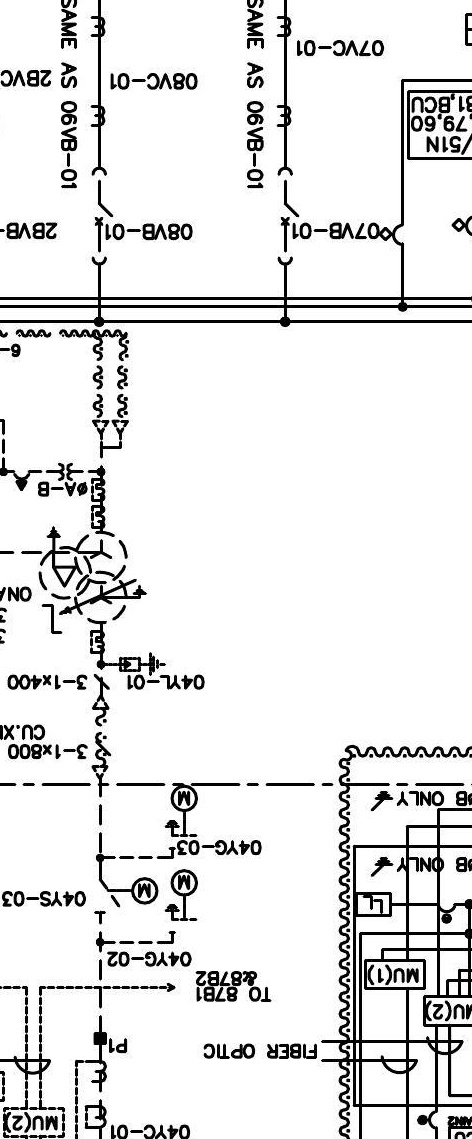22_breaker: (277, 167, 300, 266), (91, 167, 114, 266)
LL: (355, 891, 392, 918)
MU: (364, 959, 426, 991)
